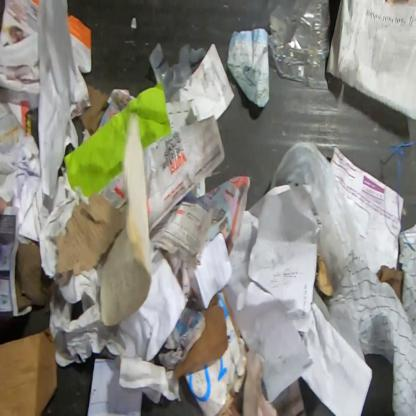cardboard: (184, 287, 250, 416), (53, 192, 124, 276), (0, 324, 59, 415), (173, 292, 228, 380), (376, 264, 405, 304), (315, 249, 332, 296)
rigid_plastic: (267, 0, 332, 86), (148, 40, 207, 103)
soft_plastic: (268, 139, 368, 294)
